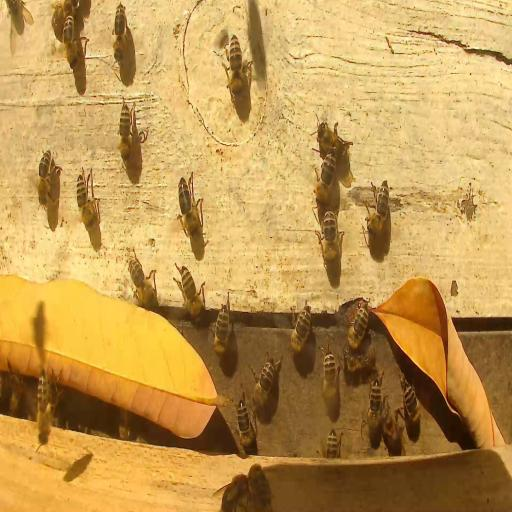nonpollenbee: (316, 121, 351, 170), (252, 354, 280, 407), (365, 181, 390, 239), (76, 166, 98, 230), (321, 211, 343, 271), (321, 349, 341, 412), (316, 149, 337, 208), (346, 300, 370, 348), (228, 34, 246, 96), (236, 398, 256, 453), (290, 301, 311, 353), (366, 378, 383, 439), (341, 348, 378, 376), (248, 464, 271, 508), (63, 14, 81, 70), (382, 406, 402, 456), (112, 2, 128, 64), (119, 98, 134, 161), (402, 382, 422, 429), (211, 303, 230, 351), (38, 152, 53, 208), (174, 264, 196, 301), (178, 172, 194, 214), (129, 254, 144, 289), (52, 3, 64, 42), (118, 410, 132, 440), (326, 430, 340, 458), (8, 388, 20, 414)
pollenbee: (34, 373, 52, 448)
